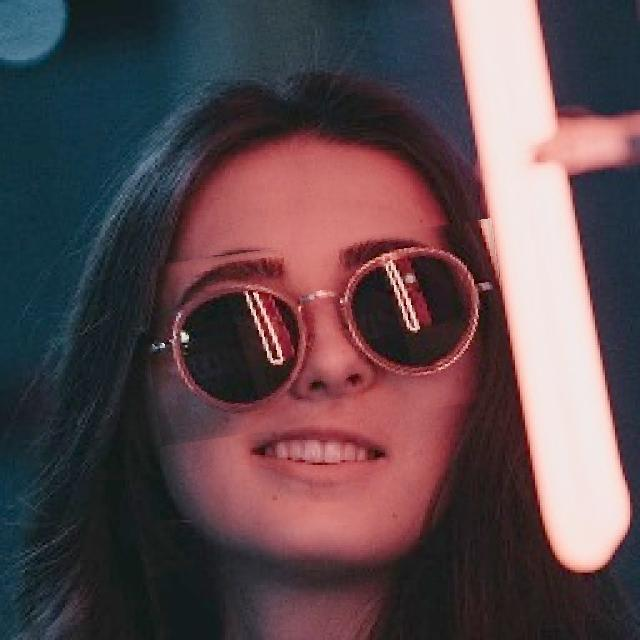glasses: (143, 230, 511, 434)
